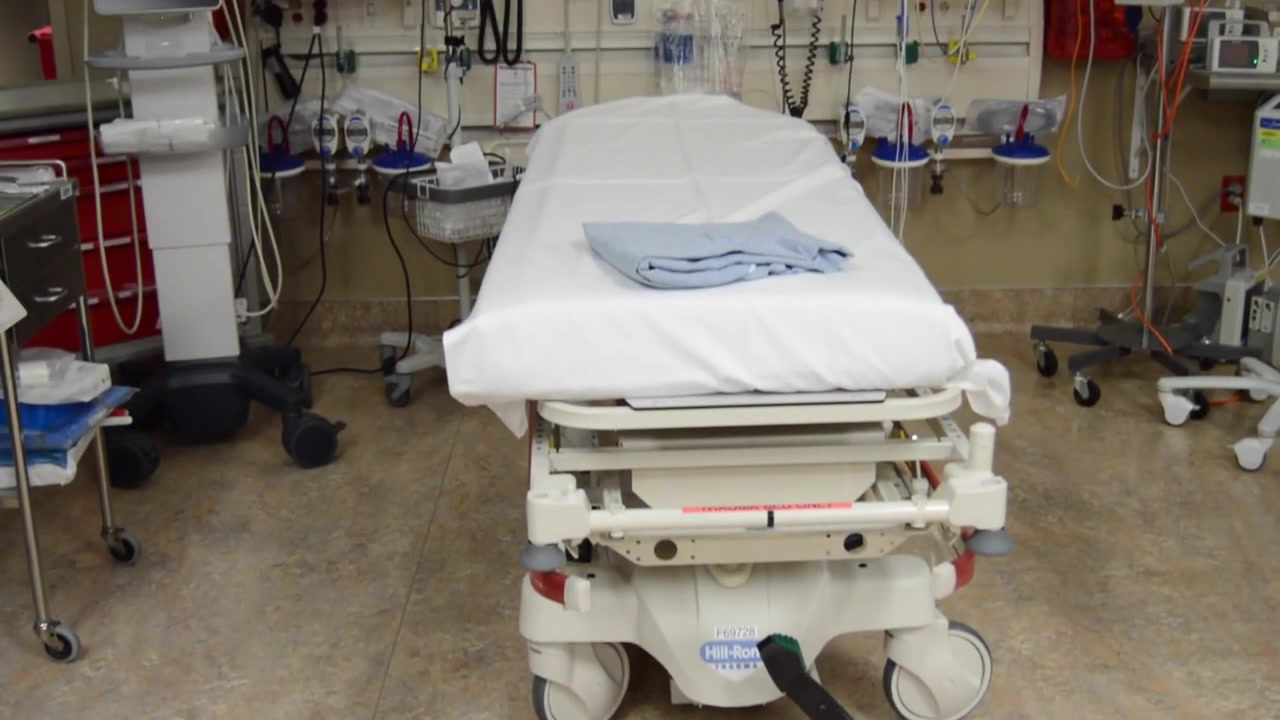handle: (31, 282, 68, 305), (30, 231, 67, 253)
hospital_bed: (444, 90, 1011, 720)
iv_pole: (1137, 1, 1181, 352)
medical_drawer: (1, 139, 154, 358)
utility_cart: (1, 155, 132, 664)
